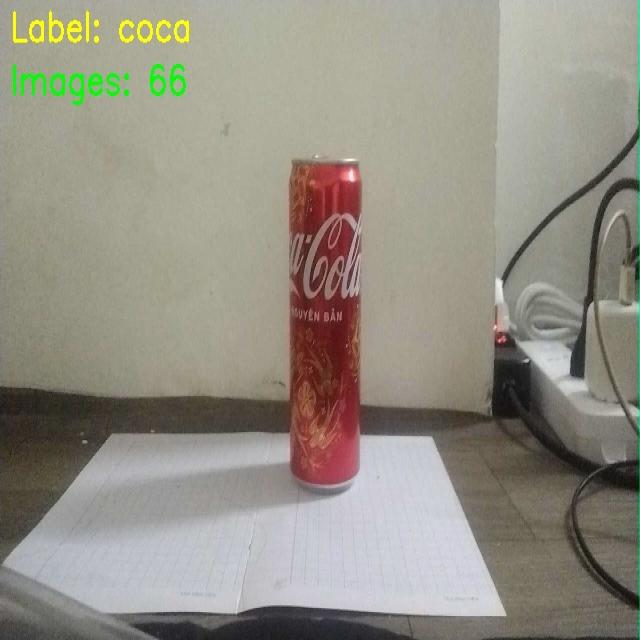Coca: (280, 110, 396, 494)
